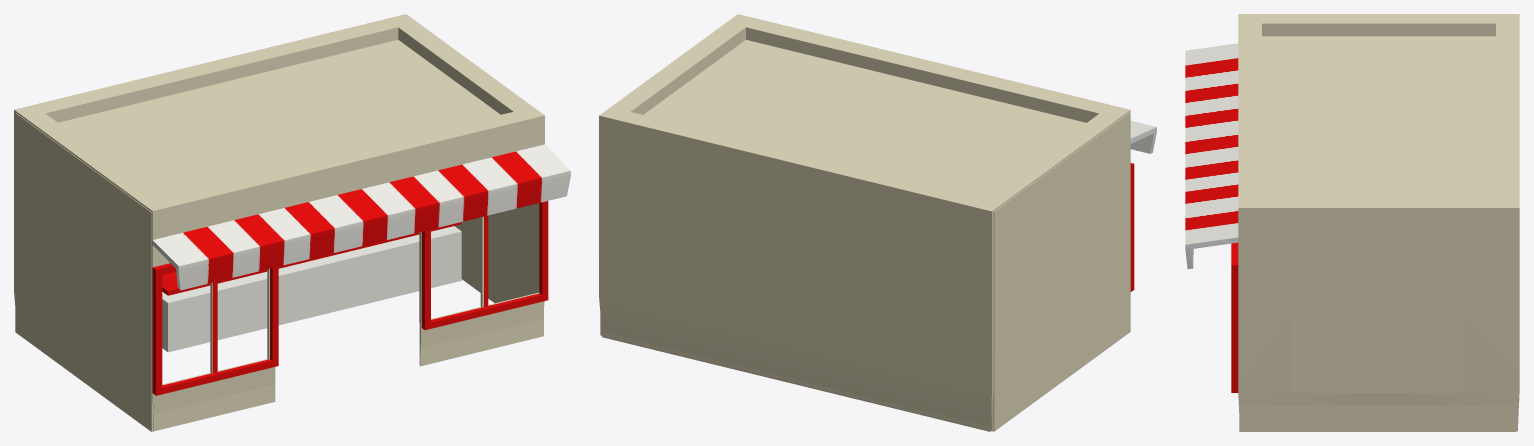
The model's file is house.fbx.
The picture shows the model from 3 angles, left to right: view 1: azimuth 30°, elevation 25°; view 2: azimuth 150°, elevation 25°; view 3: azimuth 270°, elevation 25°; orthographic projection.
Visible parts, largest first — view 1: house; view 2: house; view 3: house.
Part boxes in pixels (<box>): house: <box>14,14,570,431</box>; house: <box>599,14,1156,431</box>; house: <box>1185,14,1519,431</box>.
Size of the model in its own units: 10.67 by 5.75 by 7.75.
